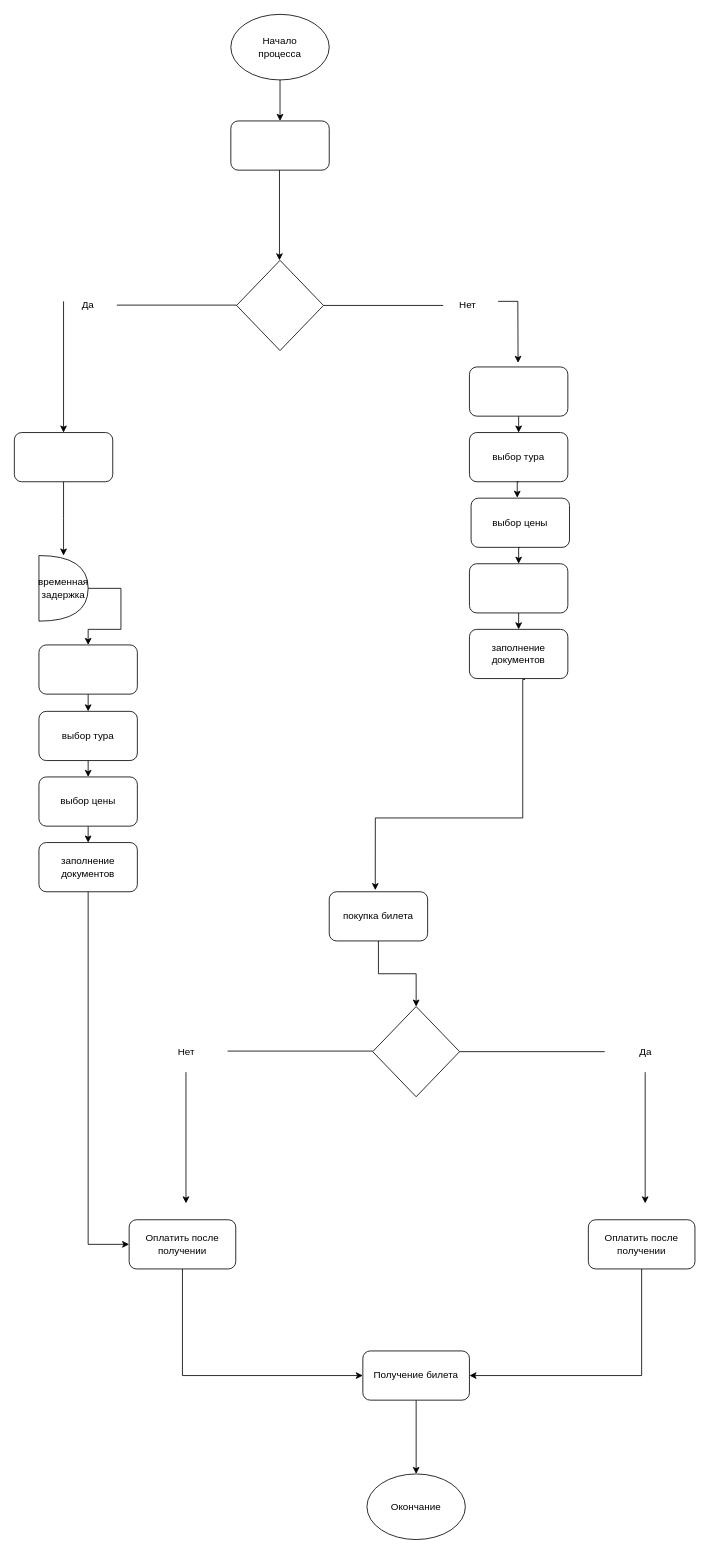
This 709x1554 diagram has some shape labels left out. Here are the shapes that lost their labels. From the top down, the box of each, then its label:
(230, 120, 329, 170): Просмотр тура
(236, 260, 323, 351): Через туроператора?
(469, 366, 568, 416): вход в турсайт
(14, 432, 113, 482): звонок туроператору
(469, 563, 568, 613): выбор места
(38, 644, 137, 694): выбор страны
(372, 1006, 460, 1097): Олатить сразу?
